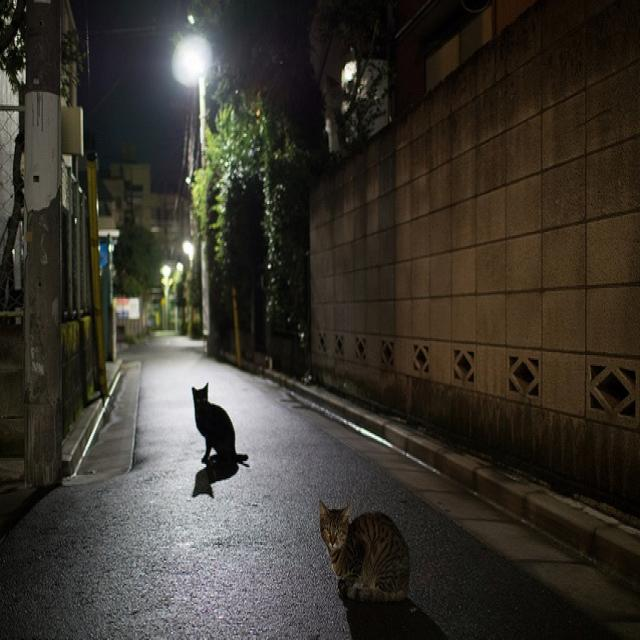Cat: (298, 473, 419, 613), (158, 377, 265, 486)
